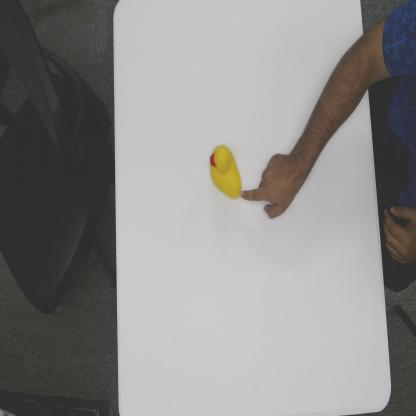Arm: (290, 40, 372, 177)
Duck: (209, 141, 243, 200)
Hand: (241, 150, 298, 223)
